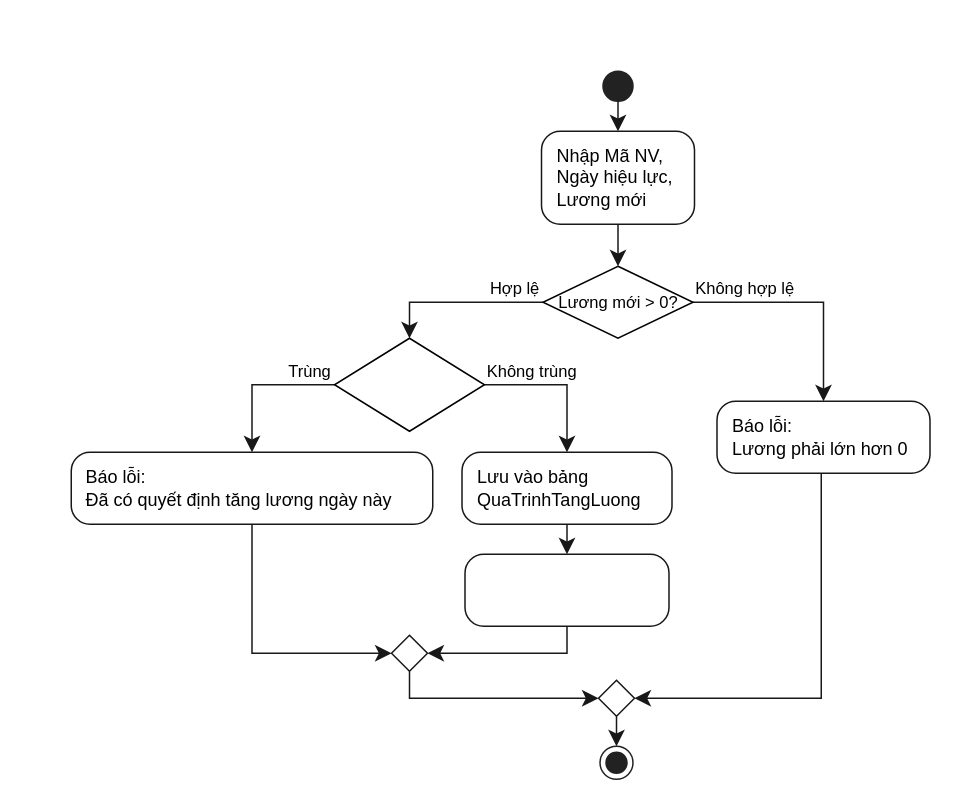
This 956x806 diagram has some shape labels left out. The shapes that lost their labels are listed below. From the top down, each one's centre as x and y in pixels, then its label:
At point 408,384: "Ngày hiệu lực trùng?".
At point 566,589: "Thông báo cập nhật lịch sử thành công".
